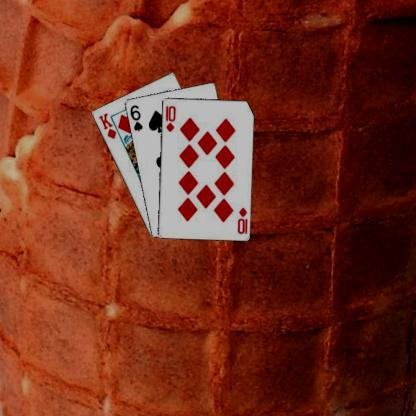10D: (235, 204, 248, 236), (163, 103, 176, 133)
6S: (128, 102, 144, 132)
KD: (96, 110, 117, 140)
